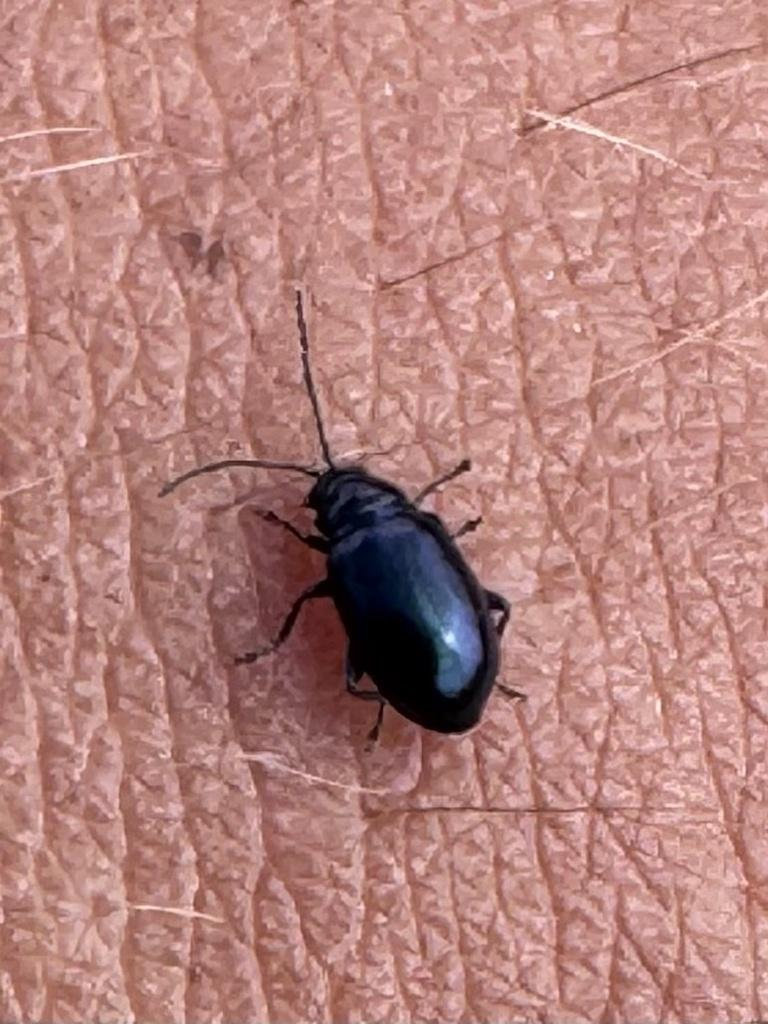flea_beetle: (92, 250, 693, 834)
